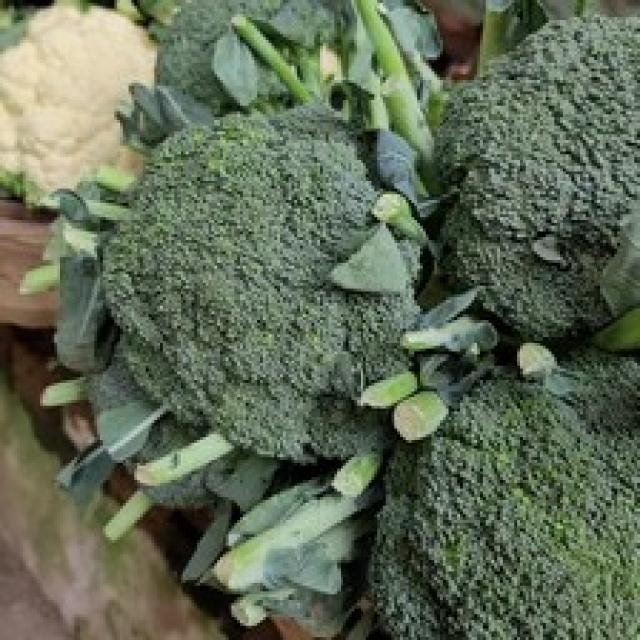Broccoli: (105, 108, 418, 462), (106, 108, 418, 462), (371, 348, 640, 640), (371, 379, 640, 640), (438, 16, 640, 338), (438, 16, 640, 338)
